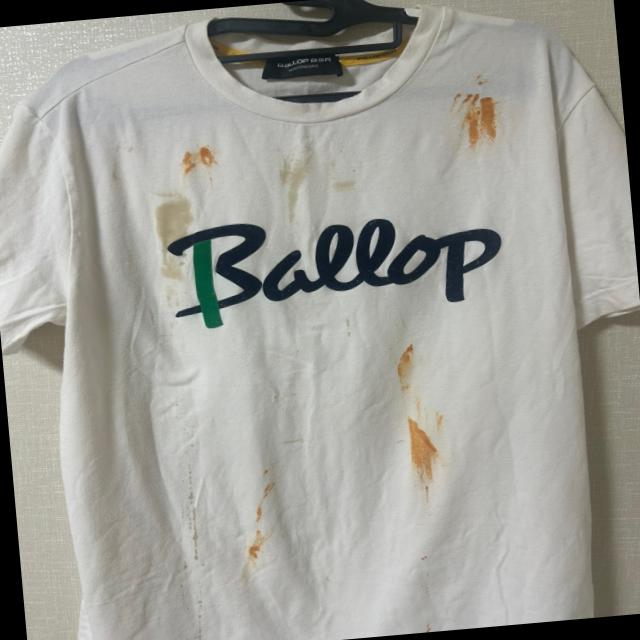stain: (148, 193, 196, 285), (405, 412, 447, 497), (452, 87, 510, 147), (266, 155, 316, 217), (182, 463, 212, 565), (242, 513, 275, 560), (176, 144, 219, 178), (186, 596, 218, 640), (255, 472, 281, 520), (396, 346, 420, 394), (474, 59, 500, 93), (330, 170, 362, 197), (415, 394, 431, 422), (414, 554, 436, 566), (421, 620, 434, 632)
